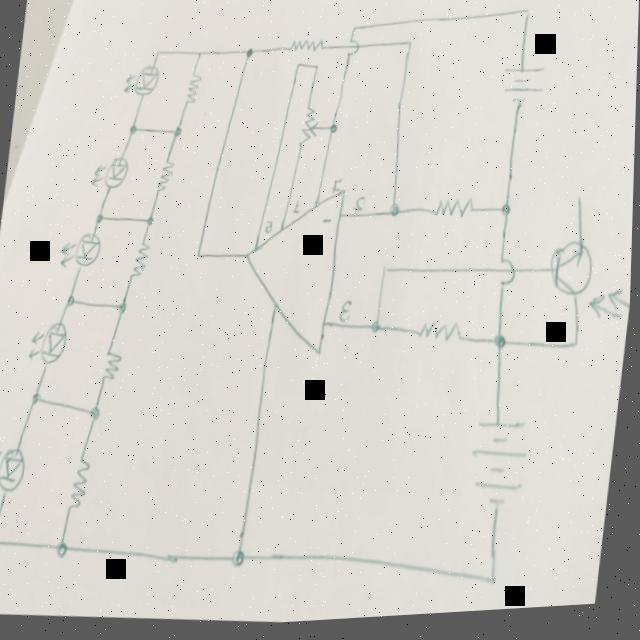crossover: (497, 260, 520, 294), (345, 39, 361, 61)
diode: (29, 318, 71, 369), (60, 230, 105, 273), (0, 441, 33, 497), (92, 153, 132, 192), (123, 62, 161, 102)
junction: (232, 547, 251, 573), (387, 201, 405, 225), (493, 335, 512, 357), (57, 538, 74, 560), (489, 573, 504, 597), (117, 297, 132, 319), (371, 319, 385, 341), (571, 339, 585, 361), (89, 404, 104, 424), (327, 123, 341, 143), (500, 207, 514, 225), (94, 209, 107, 228), (243, 46, 257, 63), (381, 263, 393, 282), (32, 389, 44, 404), (129, 123, 140, 138), (67, 293, 78, 308), (173, 125, 184, 139), (146, 214, 156, 229), (196, 49, 206, 63), (196, 249, 205, 264), (523, 11, 532, 26), (313, 64, 322, 78), (406, 41, 414, 55), (351, 26, 359, 37), (155, 48, 162, 60), (295, 63, 302, 73), (0, 530, 2, 548)
resistor: (70, 455, 95, 511), (299, 99, 324, 154), (436, 198, 477, 228), (420, 321, 466, 347), (132, 240, 153, 280), (155, 159, 177, 197), (103, 348, 126, 384), (289, 38, 325, 59), (184, 71, 203, 108)
source: (470, 421, 534, 516), (500, 67, 548, 117)
terminal: (576, 196, 586, 215)
text: (341, 300, 355, 327), (353, 197, 368, 216), (331, 179, 344, 199), (292, 200, 303, 218), (266, 221, 275, 238), (322, 219, 334, 228)
transistor: (544, 239, 634, 332)
